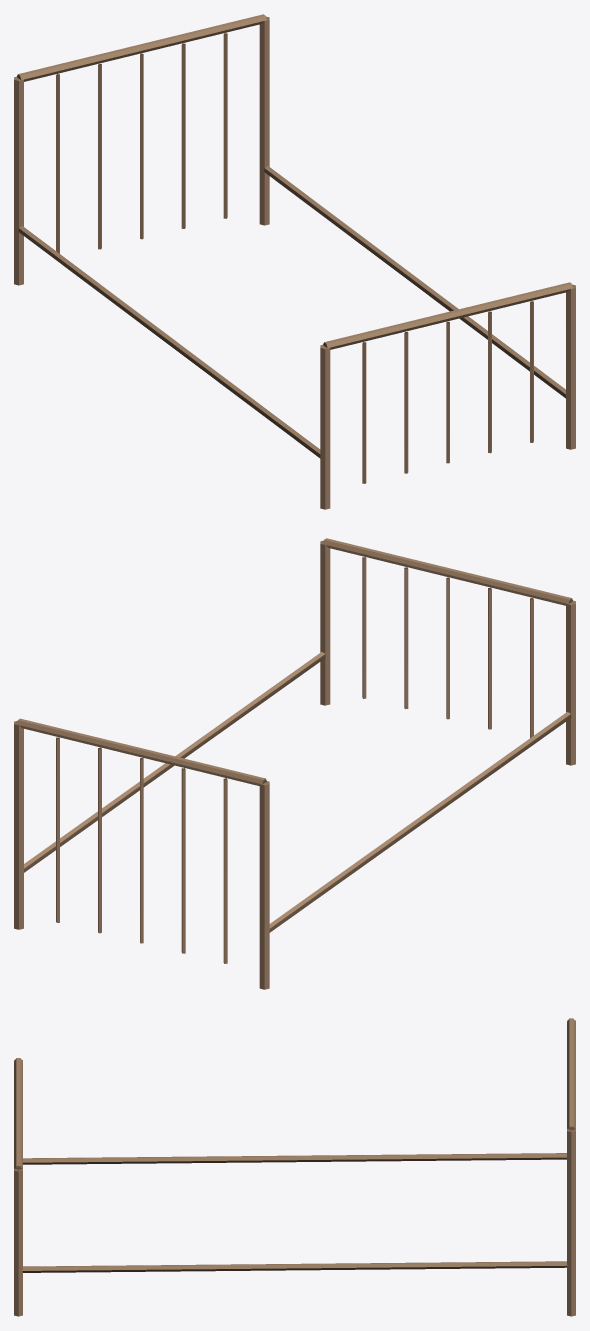
Rendered from bedstead_silted.glb.
3 renders of one model, top to bottom at view 1: azimuth 30°, elevation 25°; view 2: azimuth 150°, elevation 25°; view 3: azimuth 270°, elevation 25°, orthographic. The views are drawn at different scales.
Visible parts, largest first — view 1: static; view 2: static; view 3: static.
Boxes of the visible parts, x1,y1,x2,y2 form: static: [14, 14, 575, 509]; static: [14, 538, 575, 989]; static: [14, 1018, 575, 1316].
Bounding box in the file's own units: 0.916 × 0.7121 × 1.93.
